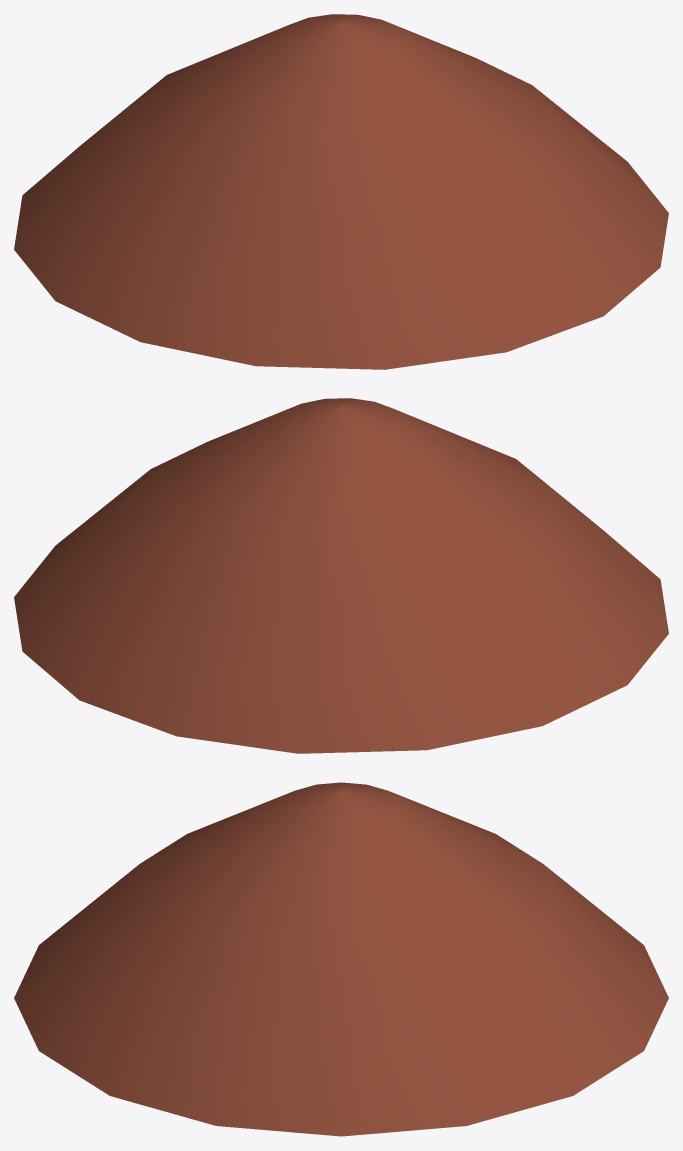
The model's file is demolition.heap.crushed_brick.glb.
3 renders of one model, top to bottom at view 1: azimuth 30°, elevation 25°; view 2: azimuth 150°, elevation 25°; view 3: azimuth 270°, elevation 25°, orthographic.
Parts seen in each view (by area): view 1: main__brick; view 2: main__brick; view 3: main__brick.
Part boxes in pixels (x1,y1,x2,y2): main__brick: (14, 14, 668, 369); main__brick: (14, 398, 668, 753); main__brick: (14, 782, 668, 1136).
Size of the model in its own units: 6 by 2.1 by 6.
